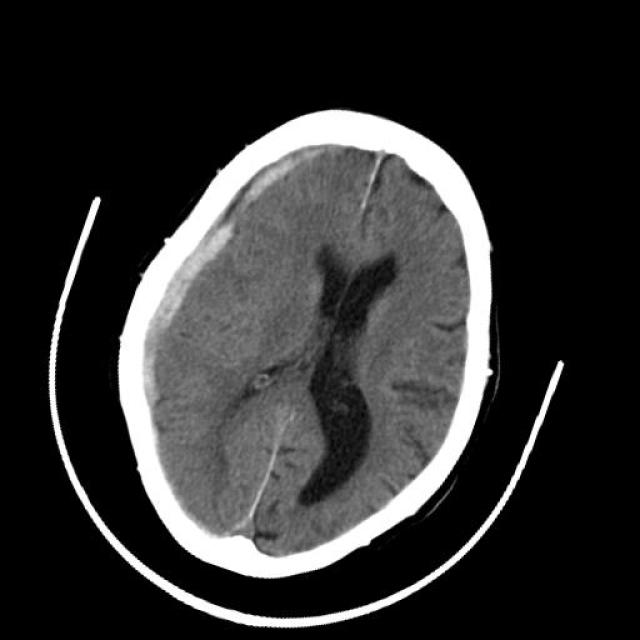Subdural: (46, 82, 322, 442)
